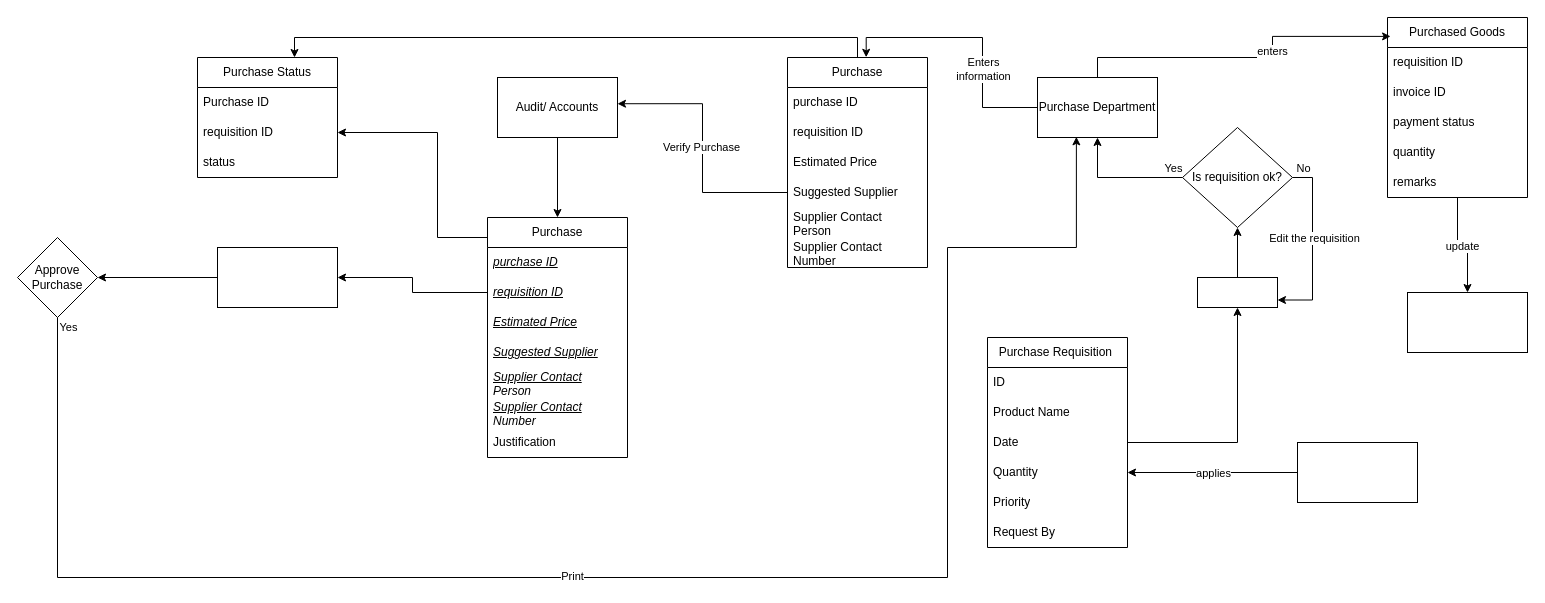
Image size: 1545x603. Some labels were removed from this diagram. The centre of each missing label's shape, as x and y in pixels:
"Director" belongs at (x=277, y=277).
"Stock" belongs at (x=1467, y=322).
"Store" belongs at (x=1357, y=472).
"Store Head" belongs at (x=1237, y=292).
